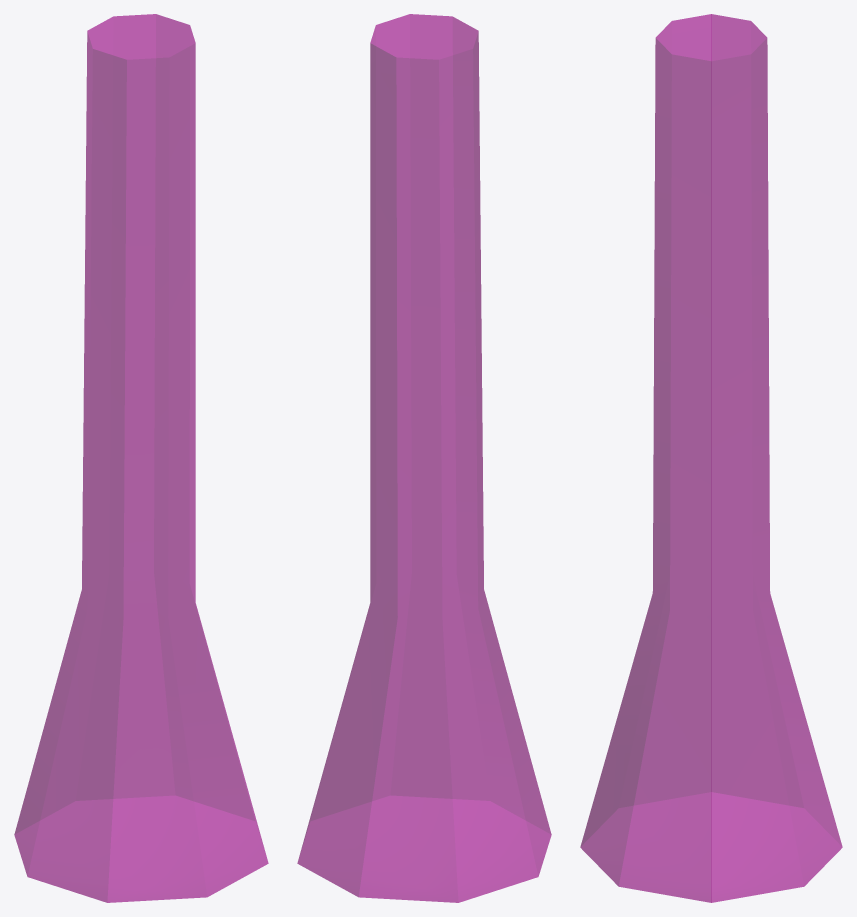
The model's file is SM_Env_Tree_01_Collision.fbx.
The picture shows the model from 3 angles, left to right: view 1: azimuth 30°, elevation 25°; view 2: azimuth 150°, elevation 25°; view 3: azimuth 270°, elevation 25°; orthographic projection.
Parts seen in each view (by area): view 1: SM_Env_Tree_01_Collision; view 2: SM_Env_Tree_01_Collision; view 3: SM_Env_Tree_01_Collision.
Part boxes in pixels (x1,y1,x2,y2): SM_Env_Tree_01_Collision: [14, 14, 268, 902]; SM_Env_Tree_01_Collision: [297, 14, 551, 902]; SM_Env_Tree_01_Collision: [580, 14, 842, 902].
Bounding box in the file's own units: 85.63 × 306 × 85.63.
